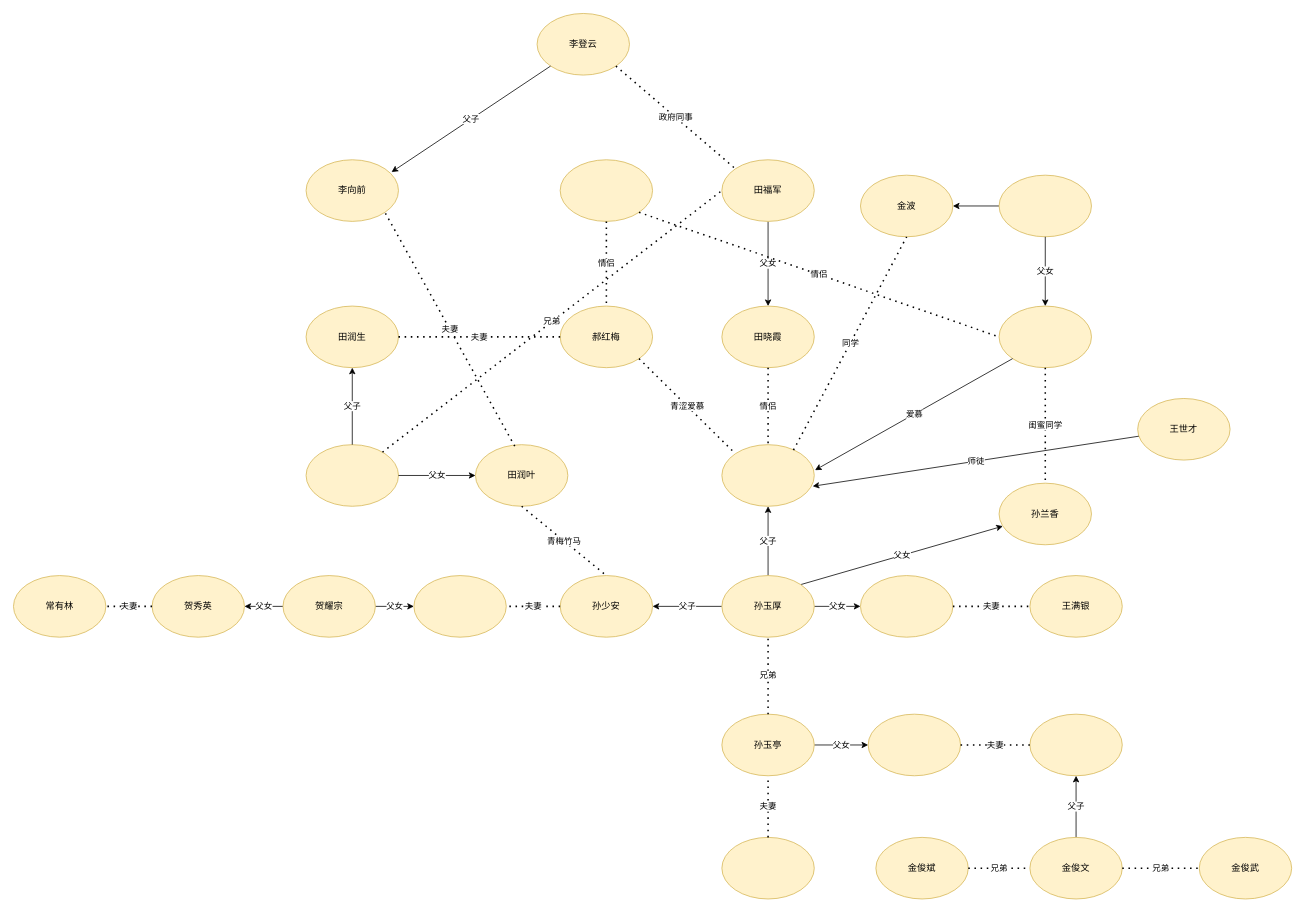
Image size: 1305x912. Some labels were removed from this diagram. Here are the shapes that lost their labels. From the top down, the box of each, then its label:
(559, 159, 653, 221): 顾养民
(998, 174, 1091, 237): 金俊海
(998, 305, 1091, 368): 金秀
(305, 444, 398, 506): 田福堂
(721, 444, 814, 506): 孙少平
(413, 575, 506, 637): 贺秀莲
(860, 575, 953, 637): 孙兰花
(867, 713, 961, 776): 孙卫红
(1029, 713, 1122, 776): 金强
(721, 837, 814, 899): 贺凤英
